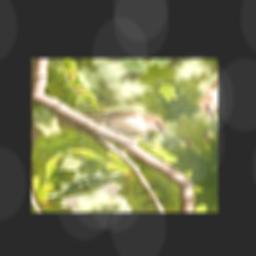Cuckoo: (52, 87, 174, 166)
